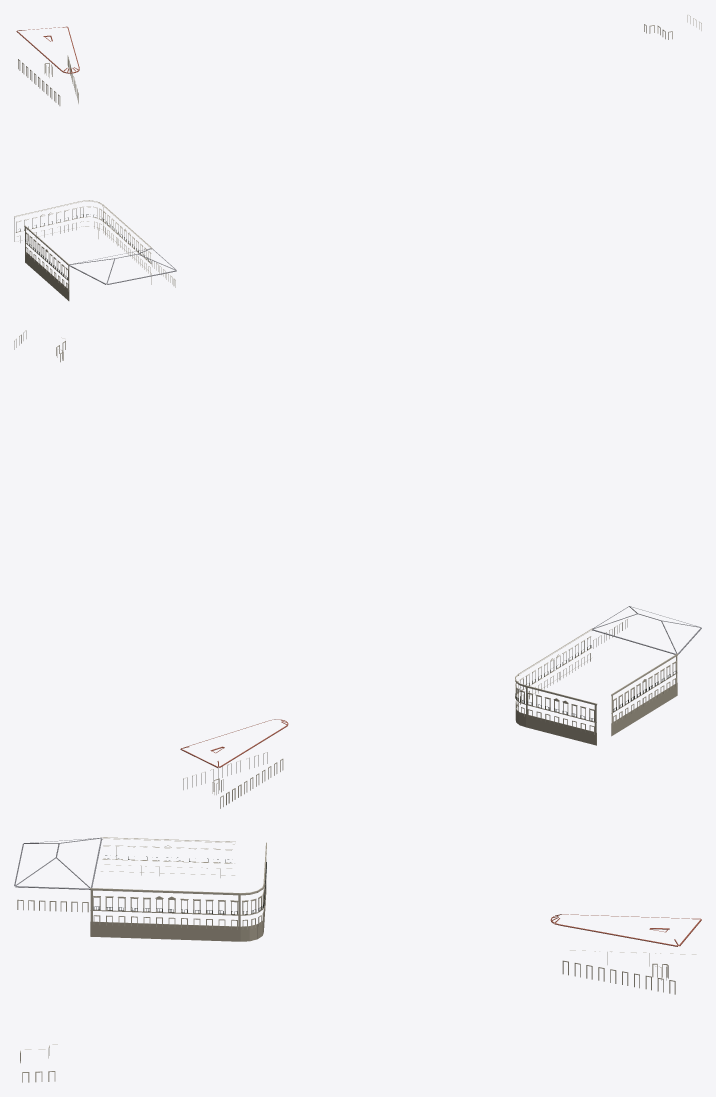
3 renders of one model, top to bottom at view 1: azimuth 30°, elevation 25°; view 2: azimuth 150°, elevation 25°; view 3: azimuth 270°, elevation 25°, orthographic. The views are drawn at different scales.
Parts seen in each view (by area): view 1: detail; view 2: detail; view 3: detail.
Boxes of the visible parts, x1=… form: detail: x1=14, y1=15, x2=701, y2=300; detail: x1=14, y1=330, x2=701, y2=808; detail: x1=14, y1=837, x2=701, y2=1082.
Size of the model in its own units: 230 by 55.61 by 172.
